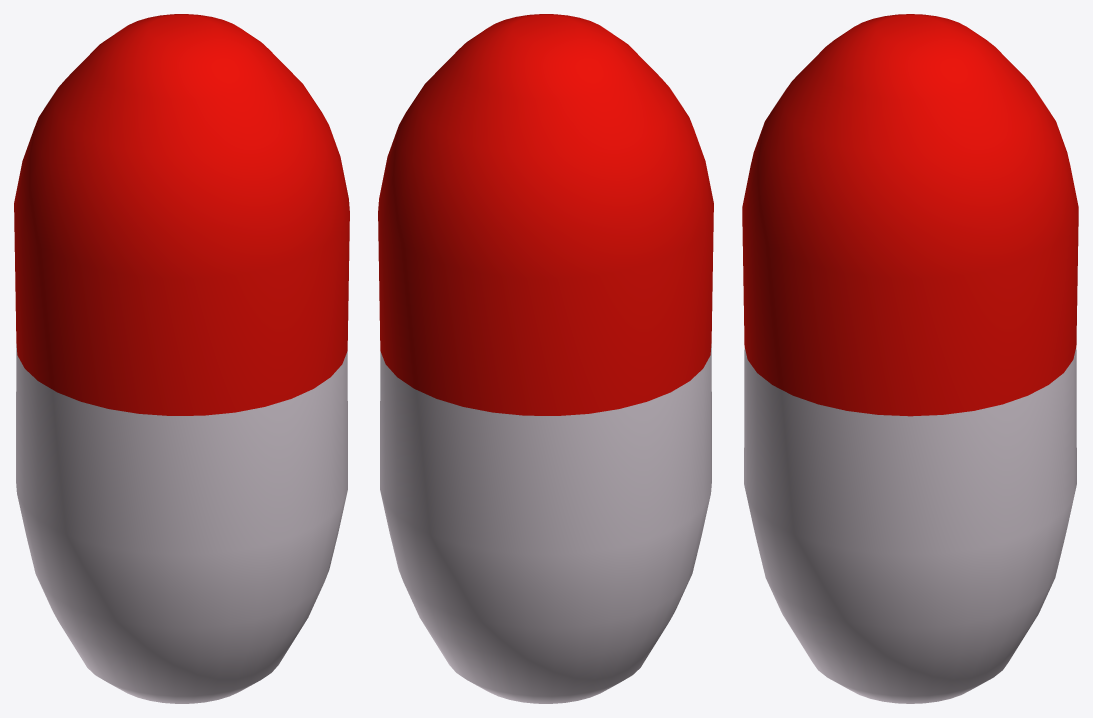
The model's file is pill.fbx.
The picture shows the model from 3 angles, left to right: view 1: azimuth 30°, elevation 25°; view 2: azimuth 150°, elevation 25°; view 3: azimuth 270°, elevation 25°; orthographic projection.
Parts seen in each view (by area): view 1: Cylinder; view 2: Cylinder; view 3: Cylinder.
Boxes of the visible parts, bbox=[...] form: Cylinder: bbox=[14, 14, 349, 703]; Cylinder: bbox=[378, 14, 713, 703]; Cylinder: bbox=[742, 14, 1078, 703].
Size of the model in its own units: 198 by 427 by 198.
